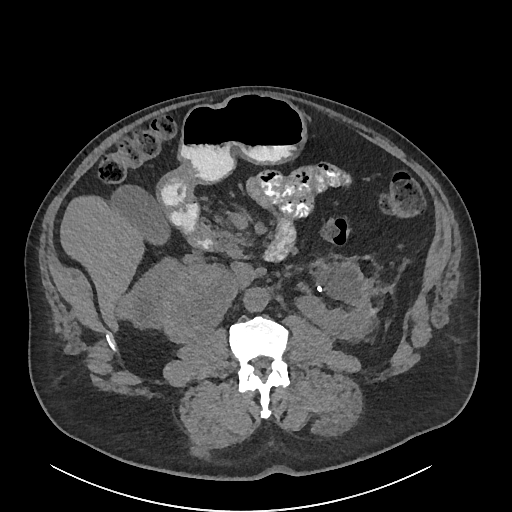Lesion: (163, 265, 239, 343)
